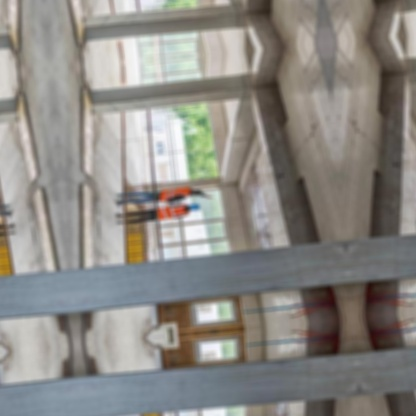blue: (188, 201, 202, 213)
vest: (155, 184, 193, 204), (155, 201, 190, 222)
